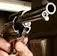gun: (1, 1, 57, 56)
